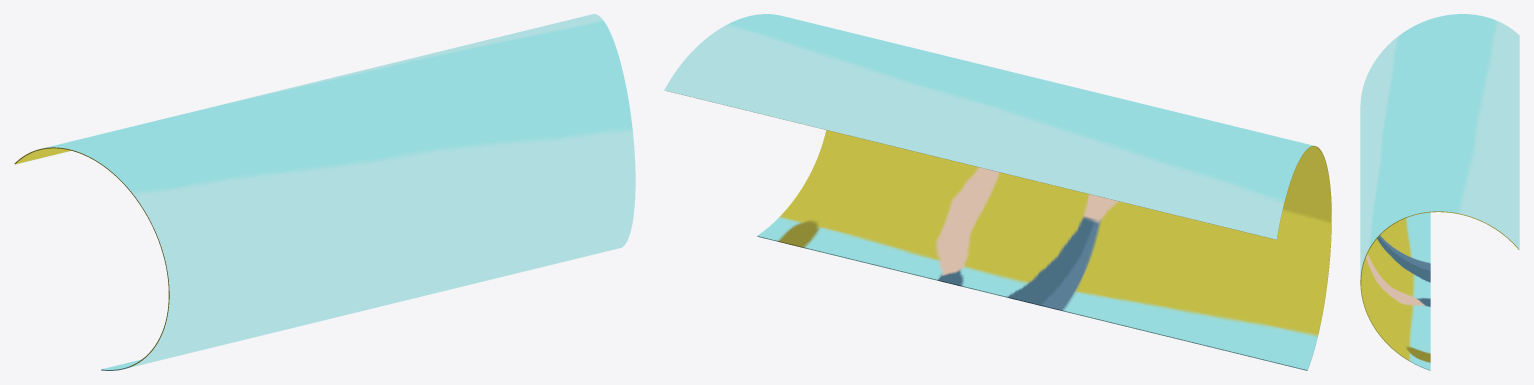
The model's file is Level 62 roll basket to catch fruit.fbx.
3 renders of one model, left to right at view 1: azimuth 30°, elevation 25°; view 2: azimuth 150°, elevation 25°; view 3: azimuth 270°, elevation 25°, orthographic. The views are drawn at different scales.
Visible parts, largest first — view 1: Blend; view 2: Blend; view 3: Blend.
Boxes of the visible parts, bbox=[...] form: Blend: bbox=[14, 14, 635, 370]; Blend: bbox=[664, 14, 1331, 370]; Blend: bbox=[1360, 14, 1519, 370].
Size of what is drawn, in the model's own units: 640 by 225 by 201.
